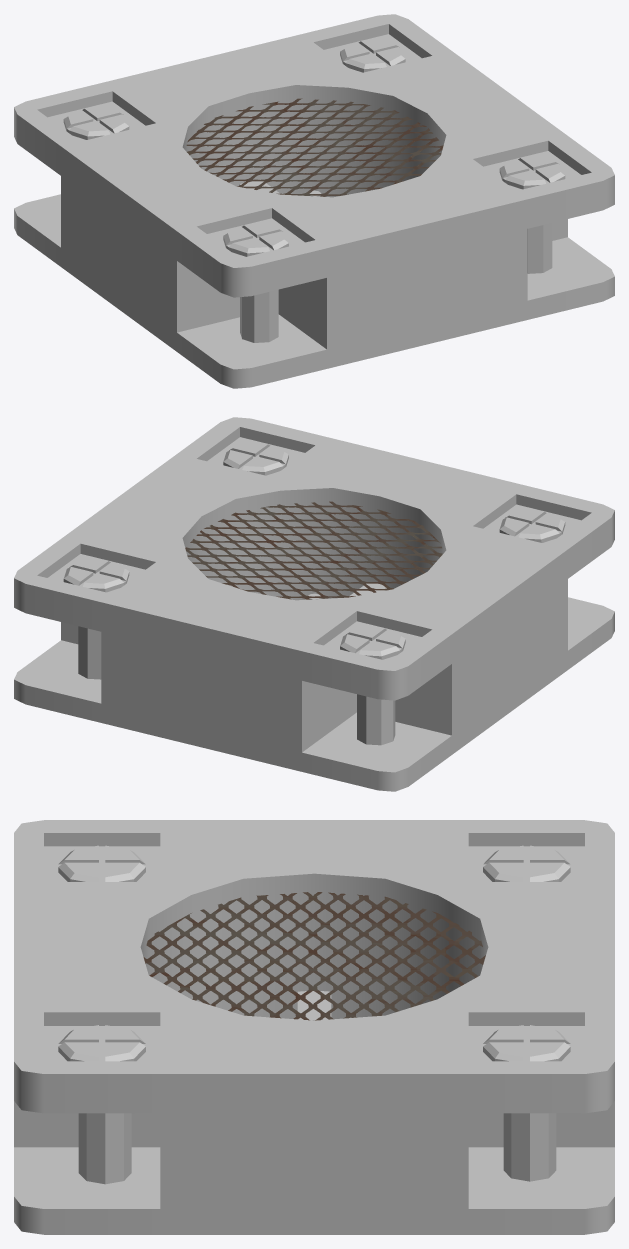
The model's file is SM_MovingPlatform.fbx.
3 views of the same model, one above another, from view 1: azimuth 30°, elevation 25°; view 2: azimuth 150°, elevation 25°; view 3: azimuth 270°, elevation 25° (orthographic). The views are drawn at different scales.
Parts seen in each view (by area): view 1: support1; view 2: support1; view 3: support1.
Part boxes in pixels (<box>): support1: <box>14,14,614,388</box>; support1: <box>14,417,614,791</box>; support1: <box>14,820,614,1234</box>.
Bounding box in the file's own units: 0.9959 × 0.2938 × 0.9959.
